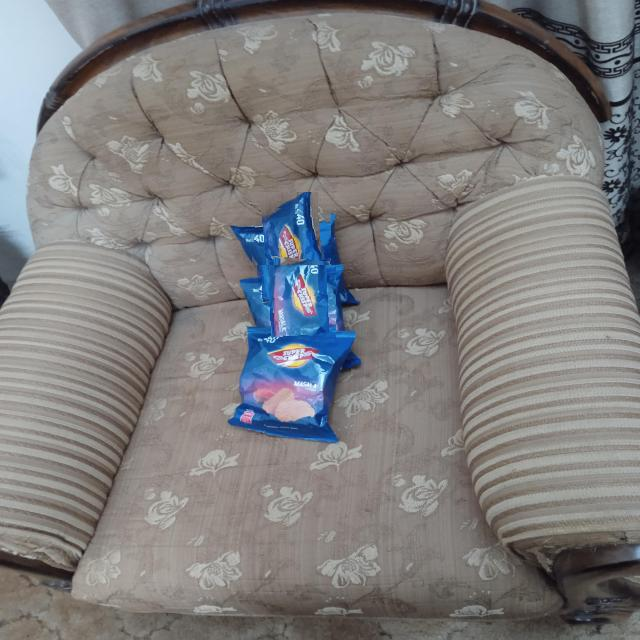Plastic: (244, 338, 351, 438), (247, 205, 331, 289), (257, 265, 336, 344)
